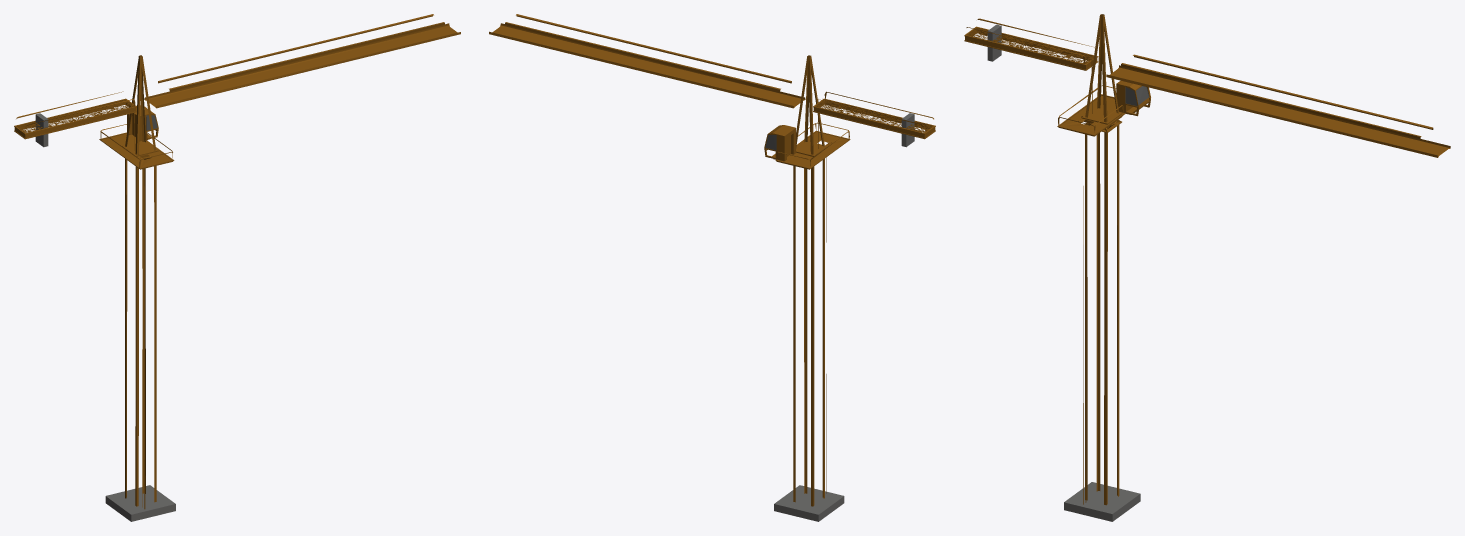
The model's file is tower-crane.lod0.glb.
3 renders of one model, left to right at view 1: azimuth 30°, elevation 25°; view 2: azimuth 150°, elevation 25°; view 3: azimuth 330°, elevation 25°, orthographic. The views are drawn at different scales.
Visible parts, largest first — view 1: Cube.052_UV_0; view 2: Cube.052_UV_0; view 3: Cube.052_UV_0.
Part boxes in pixels (<box>): Cube.052_UV_0: <box>14,14,460,521</box>; Cube.052_UV_0: <box>489,14,935,521</box>; Cube.052_UV_0: <box>964,14,1450,521</box>.
Size of the model in its own units: 47.9 by 47.42 by 7.7.
